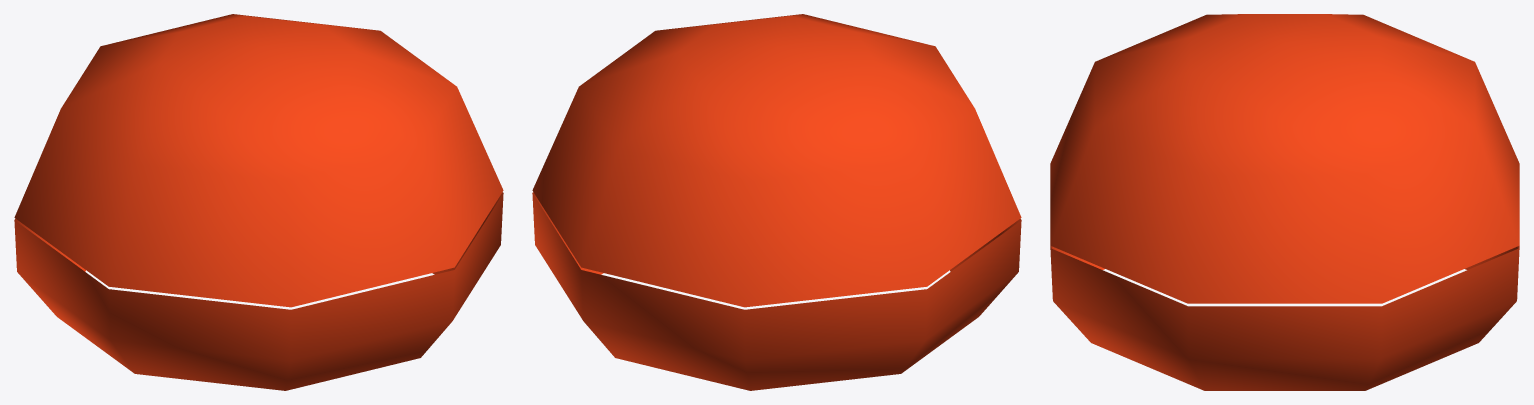
Rendered from banh mi hamburger.FBX.
3 views of the same model, side by side, from view 1: azimuth 30°, elevation 25°; view 2: azimuth 150°, elevation 25°; view 3: azimuth 270°, elevation 25° (orthographic). The views are drawn at different scales.
Parts seen in each view (by area): view 1: Object228; view 2: Object228; view 3: Object228.
Boxes of the visible parts, left/top/right/bottom form: Object228: left=14, top=14, right=503, bottom=390; Object228: left=532, top=14, right=1021, bottom=390; Object228: left=1050, top=14, right=1519, bottom=390.
Bounding box in the file's own units: 1.7 × 1.06 × 1.7.
